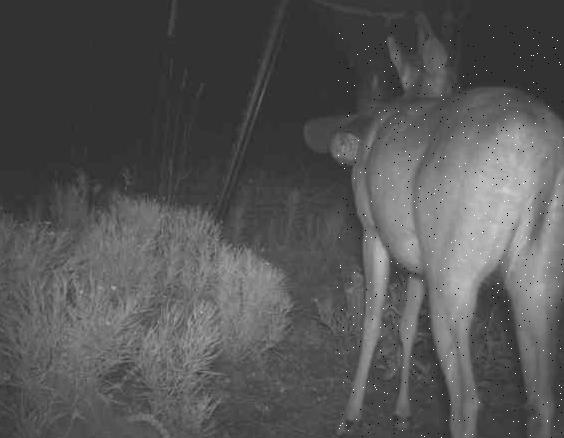Deer: (337, 24, 564, 438)
